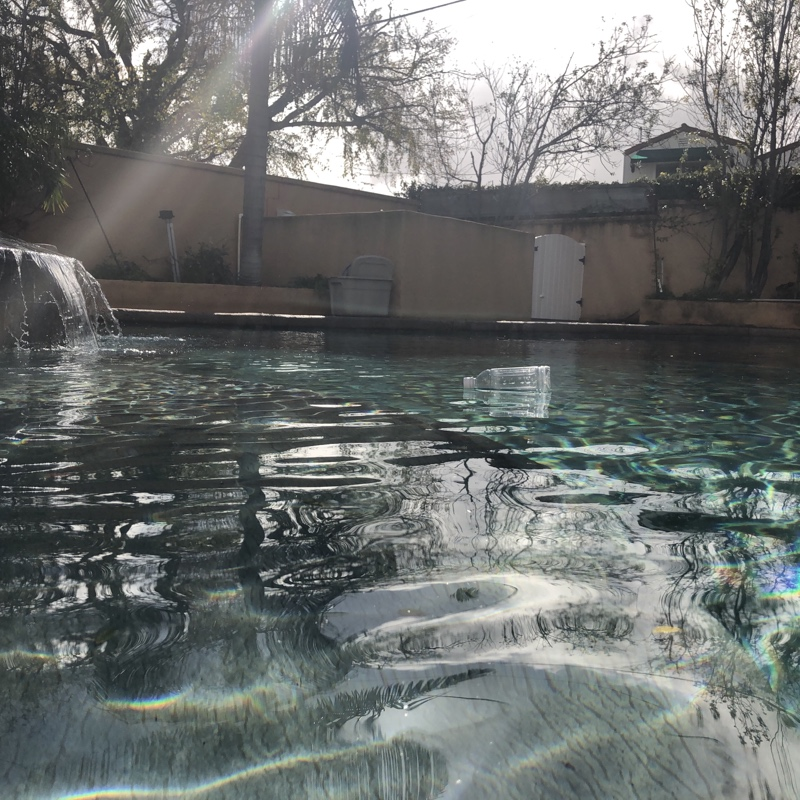Plastic Bottle: (459, 357, 555, 399)
